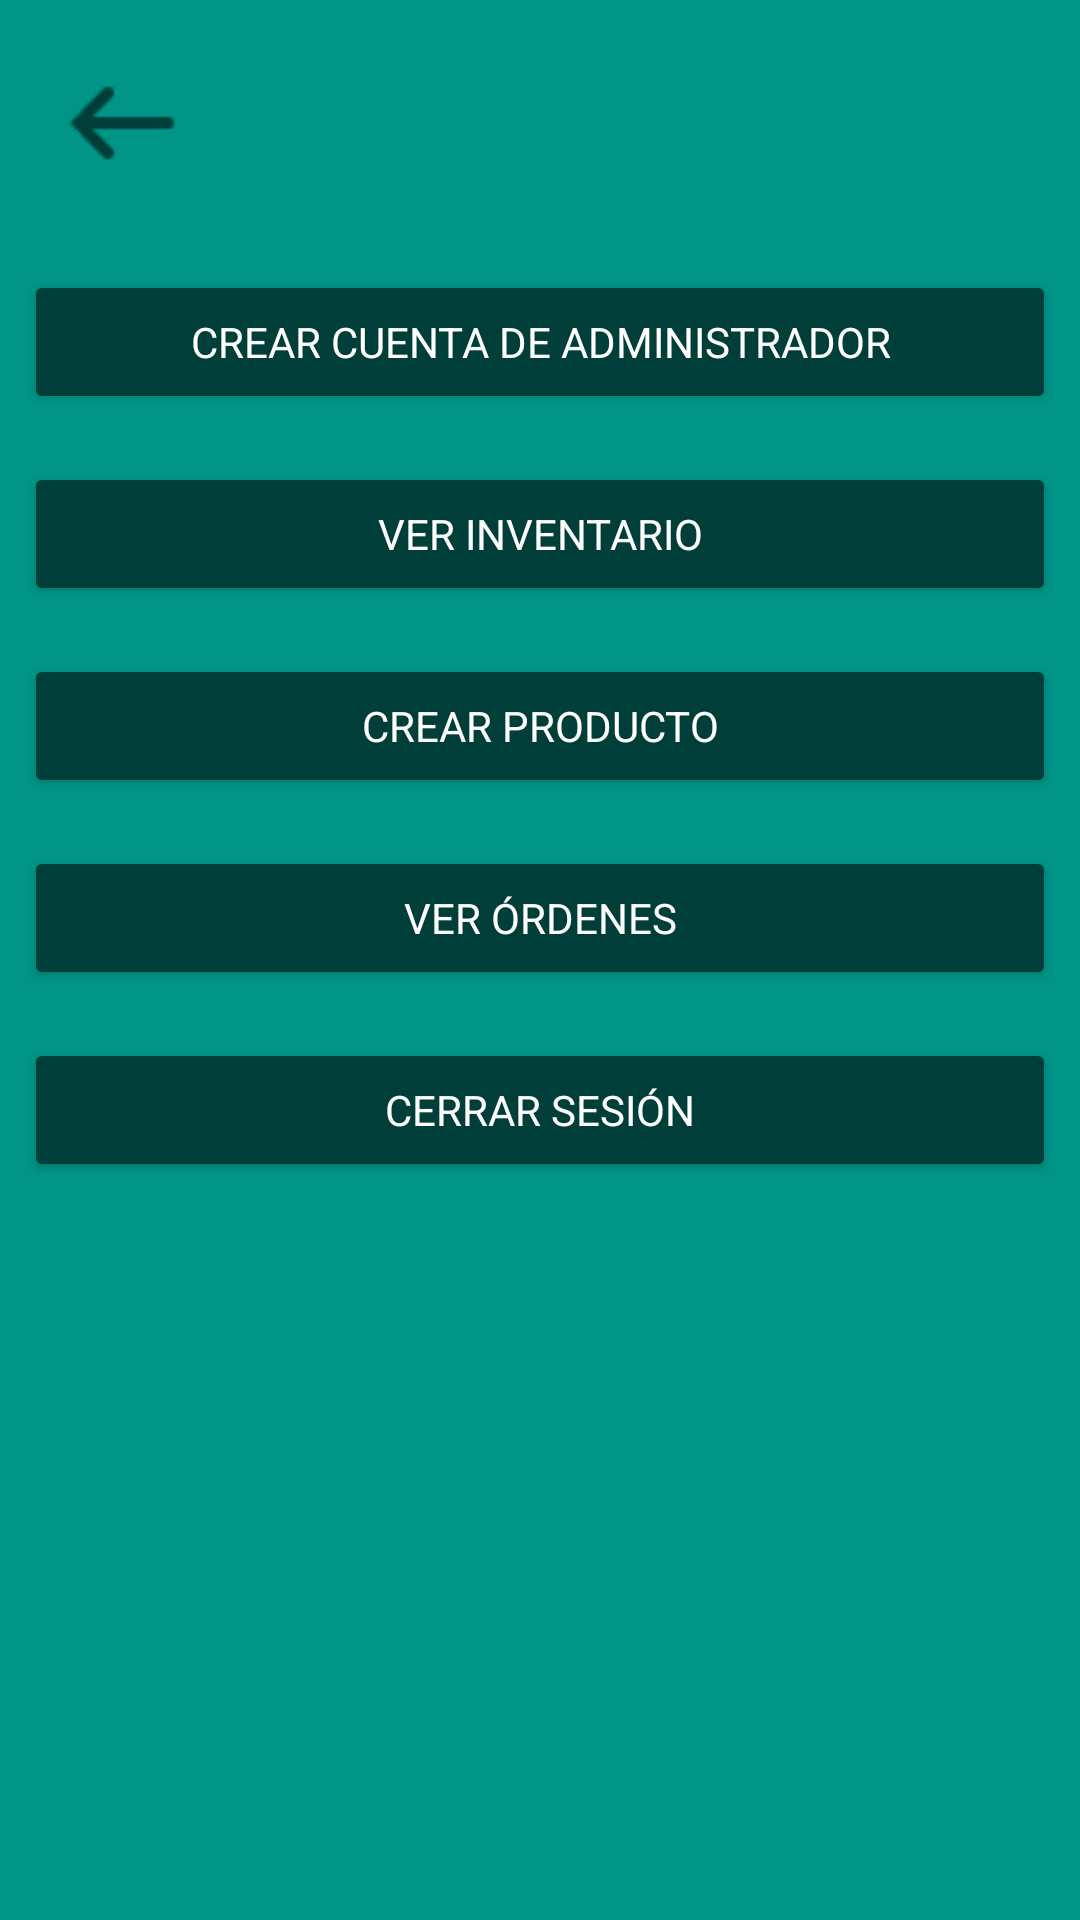

Where to tap for icons on this 1080px×1920px app screen, as [x,y]:
back: [123,123]
